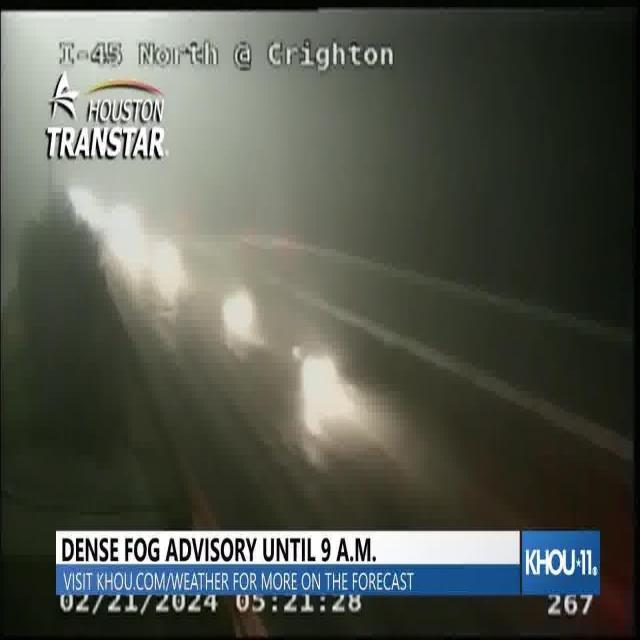Car: (280, 330, 340, 416), (215, 282, 262, 368)
